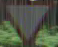Give way: (2, 0, 52, 46)
